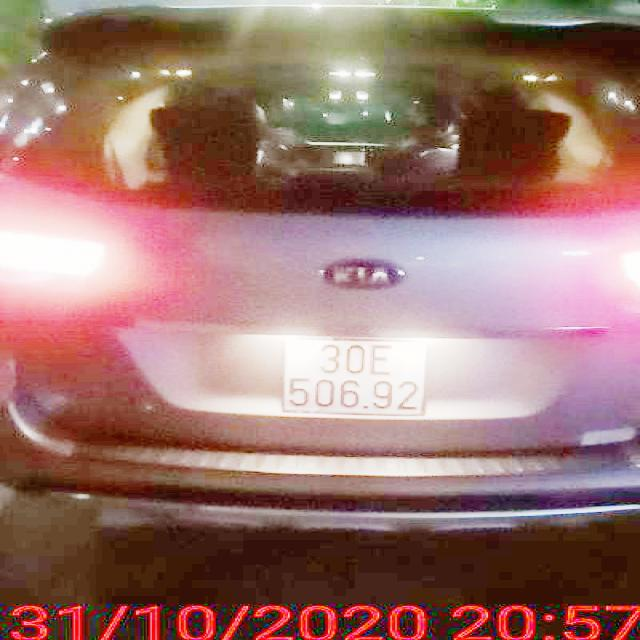license_plate: (282, 339, 432, 420)
